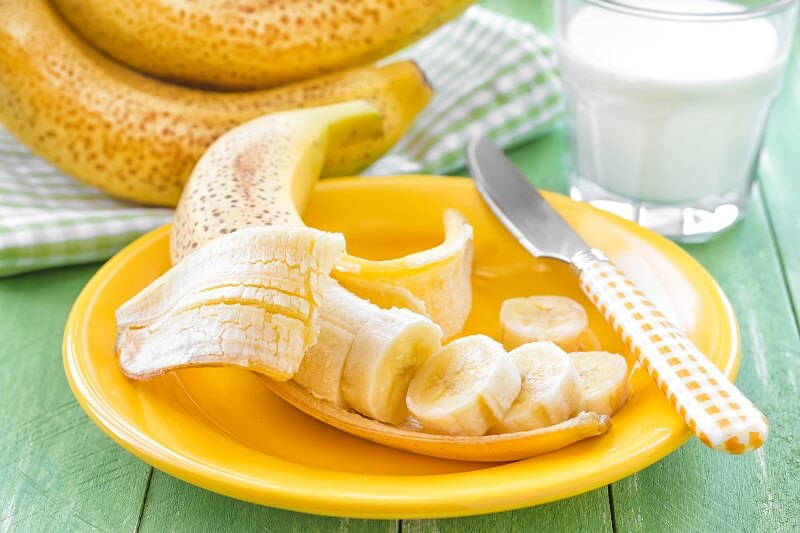banana: (123, 117, 601, 451), (1, 1, 418, 203)
